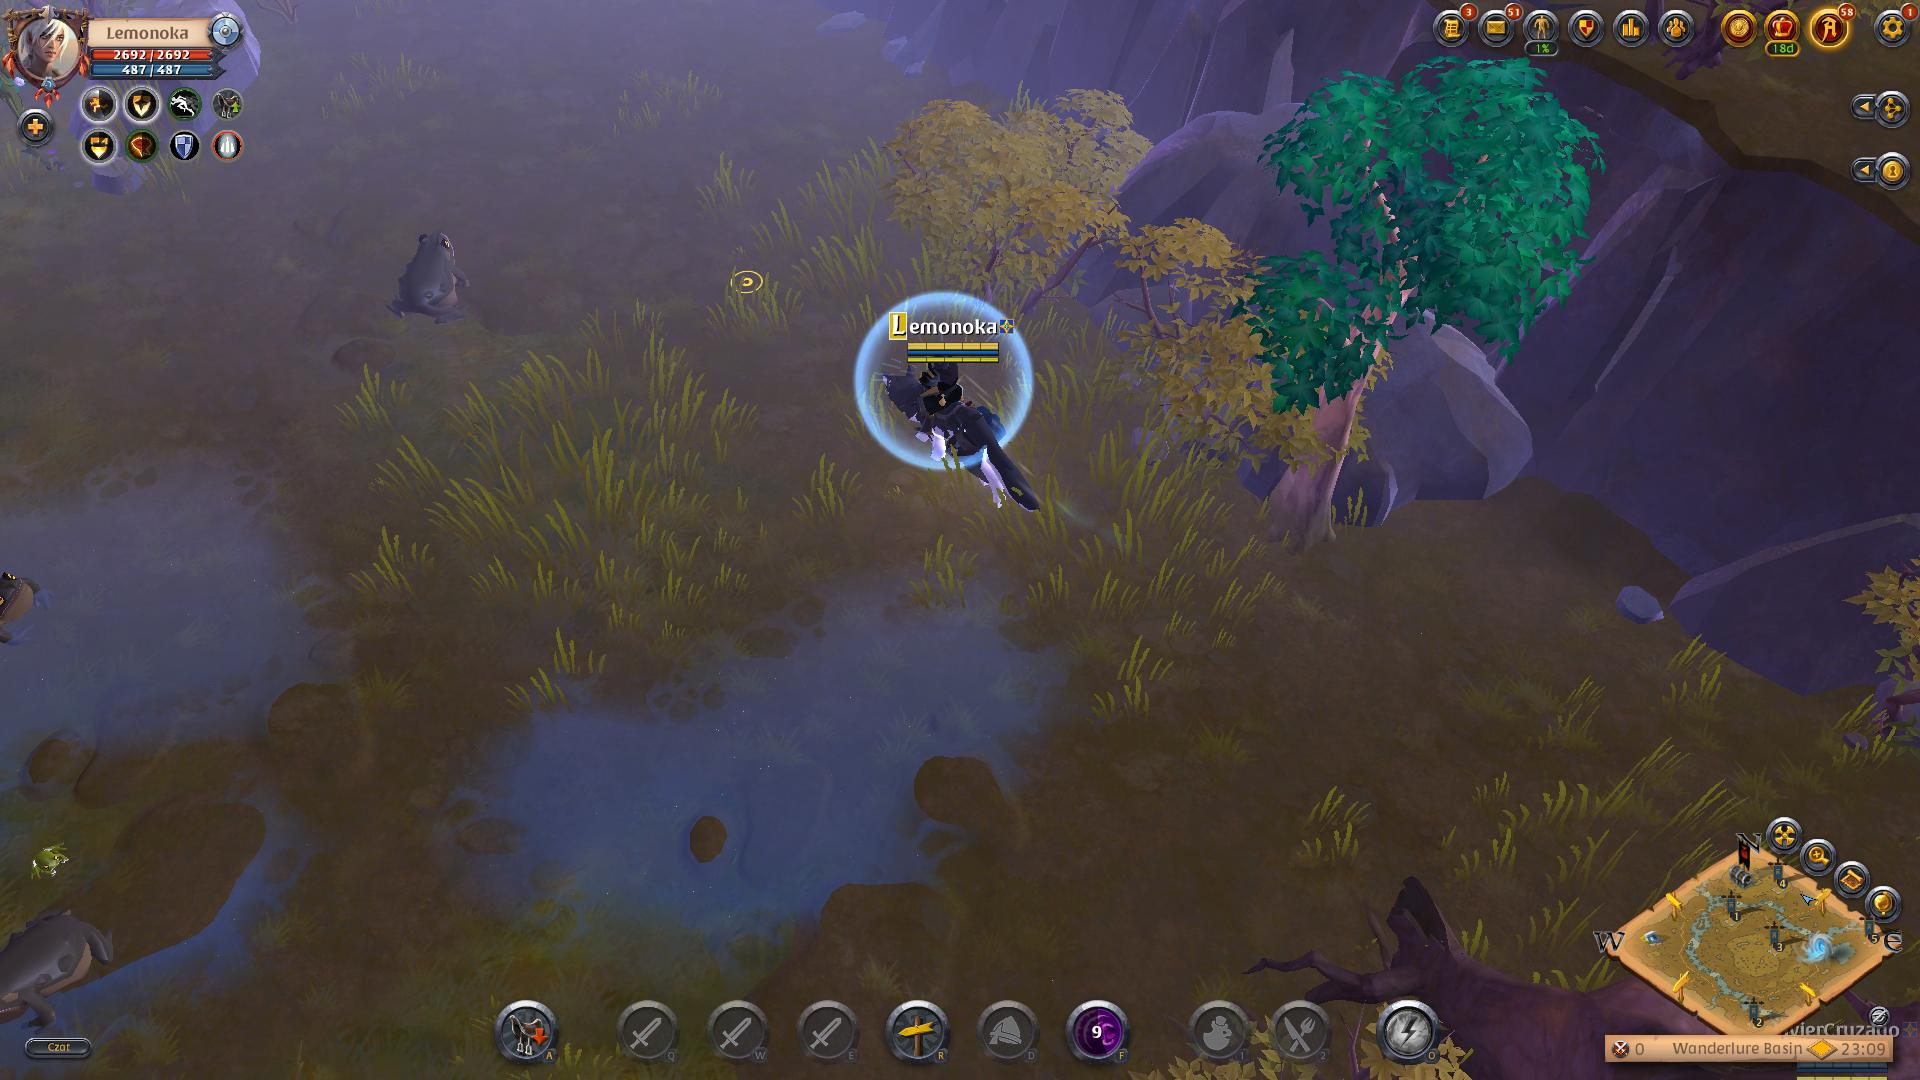wood tier 3: (1250, 65, 1609, 423)
